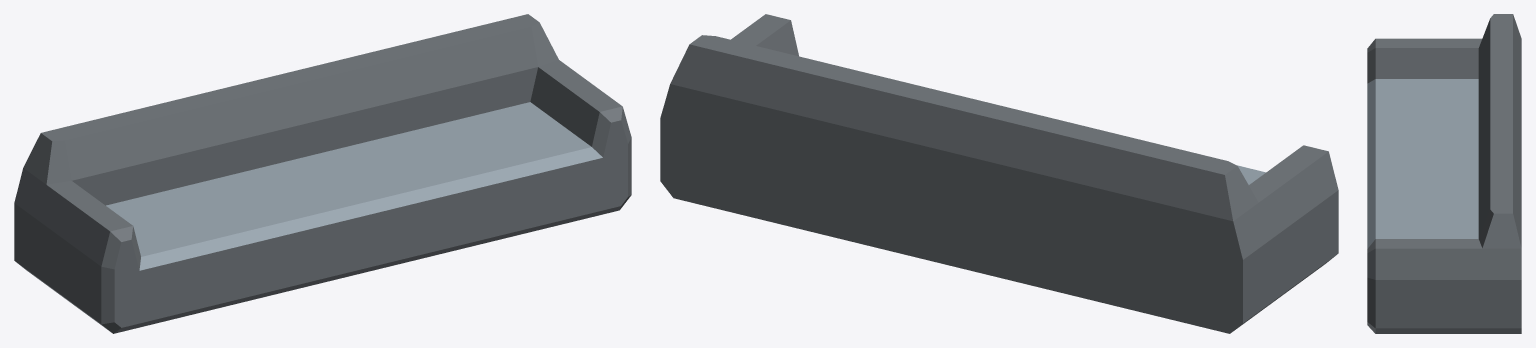
File: Couch.fbx
3 renders of one model, left to right at view 1: azimuth 30°, elevation 25°; view 2: azimuth 150°, elevation 25°; view 3: azimuth 270°, elevation 25°, orthographic. The views are drawn at different scales.
Parts seen in each view (by area): view 1: pCube5; view 2: pCube5; view 3: pCube5.
Boxes of the visible parts, bbox=[...] form: pCube5: bbox=[14, 14, 631, 333]; pCube5: bbox=[660, 14, 1338, 333]; pCube5: bbox=[1367, 14, 1521, 333].
Size of the model in its own units: 2 by 0.5 by 0.6.
